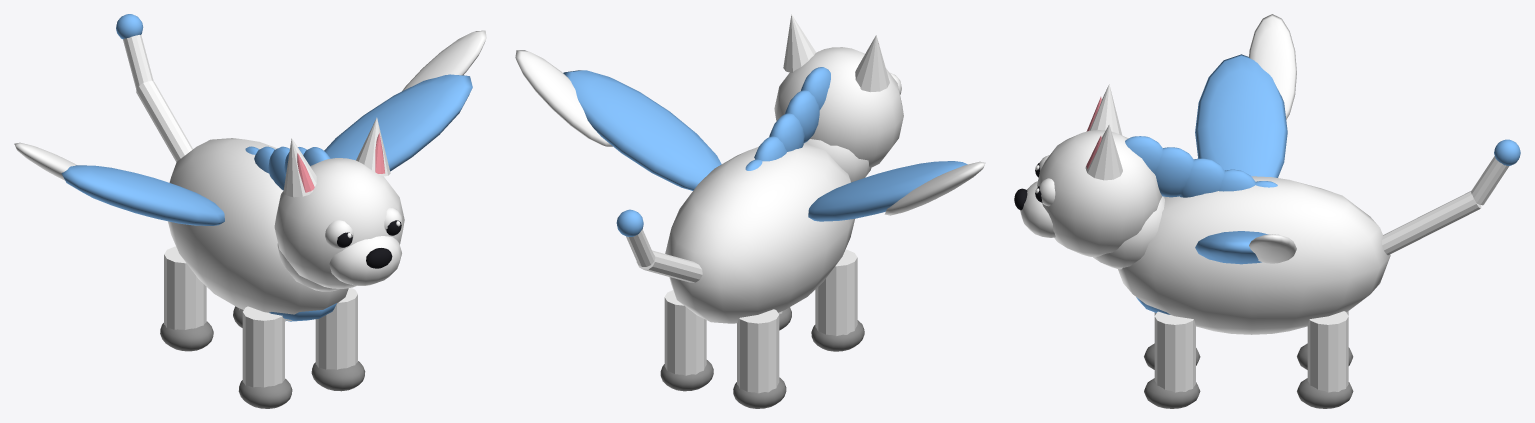
The picture shows the model from 3 angles, left to right: view 1: azimuth 30°, elevation 25°; view 2: azimuth 150°, elevation 25°; view 3: azimuth 270°, elevation 25°; orthographic projection. The views are drawn at different scales.
Visible parts, largest first — view 1: Pegasus; view 2: Pegasus; view 3: Pegasus.
Part boxes in pixels (<box>): Pegasus: <box>14,14,486,408</box>; Pegasus: <box>515,14,985,408</box>; Pegasus: <box>1014,14,1520,408</box>.
Bounding box in the file's own units: 5.13 × 3.04 × 4.92.
1 material, 1 textured.
